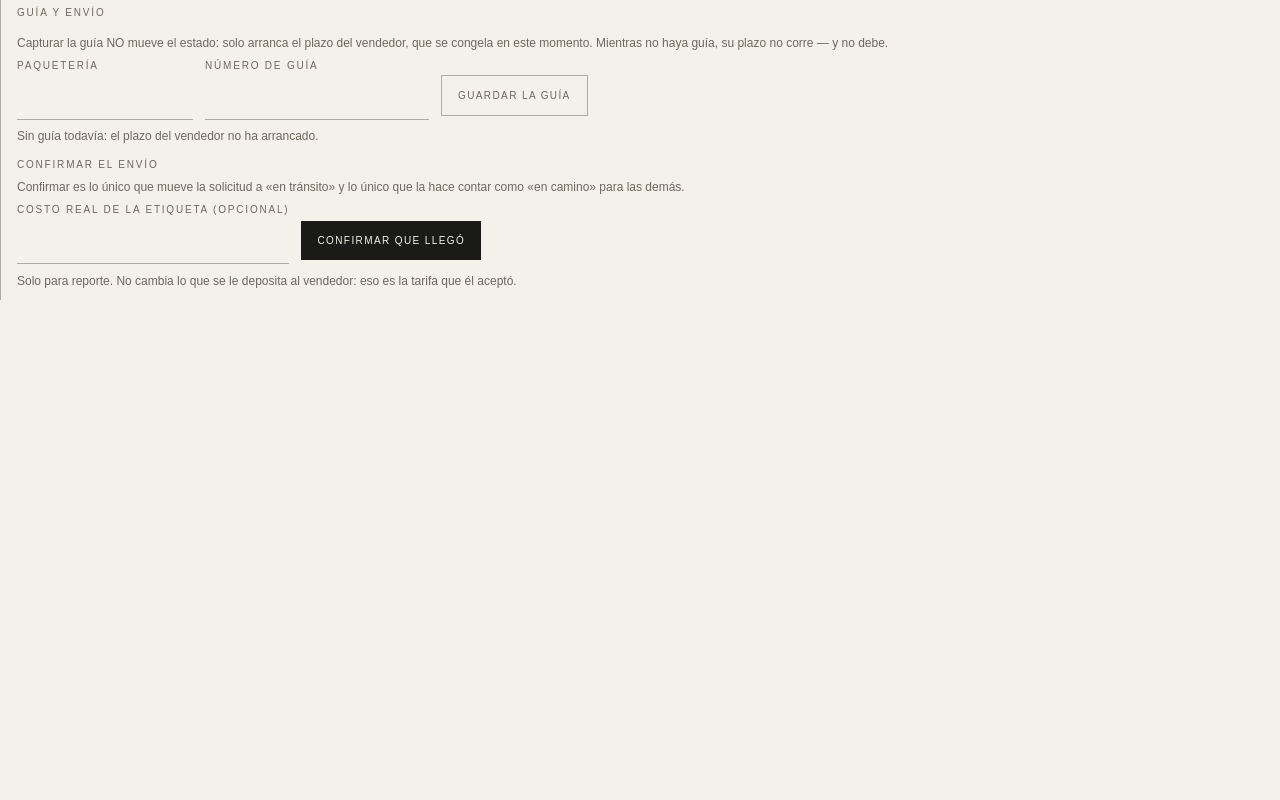
it: Guía y confirmación — dos actos, y la separación ES el diseño › confirmar es lo ÚNICO que mueve a «en tránsito», y lo dice antes de pulsarlo
Expected: the text "Confirmar es lo único que mueve la solicitud a «en tránsito»" is shown, [17, 180, 685, 194]
What coordinates should you click on to do the following:
click the button "Confirmar que llegó"
I would click on:
 (391, 241)
Its box is [302, 221, 481, 260].
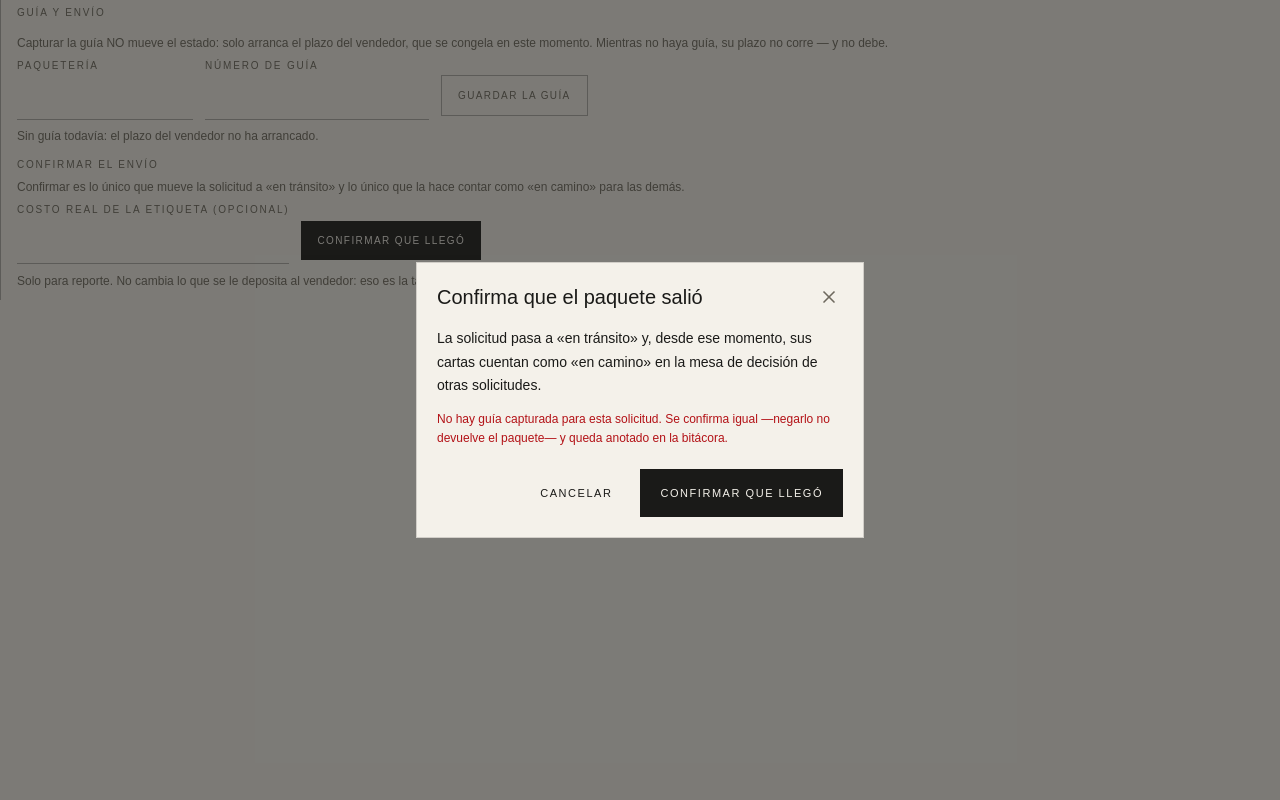
What coordinates should you click on to do the following:
click the button "Confirmar que llegó"
I would click on:
 (742, 493)
Its box is [640, 469, 843, 517].
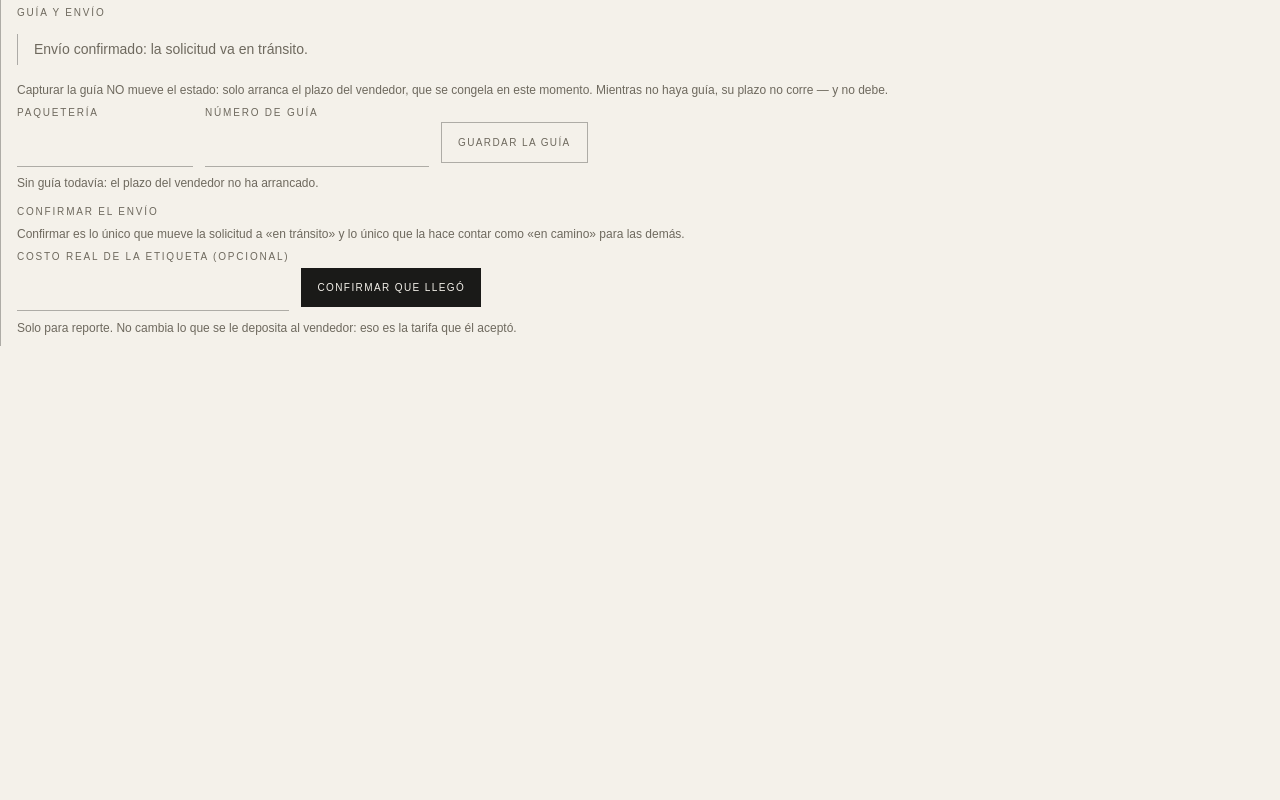
Now the text "Envío confirmado: la solicitud va en tránsito." is shown, box [34, 41, 308, 57]
